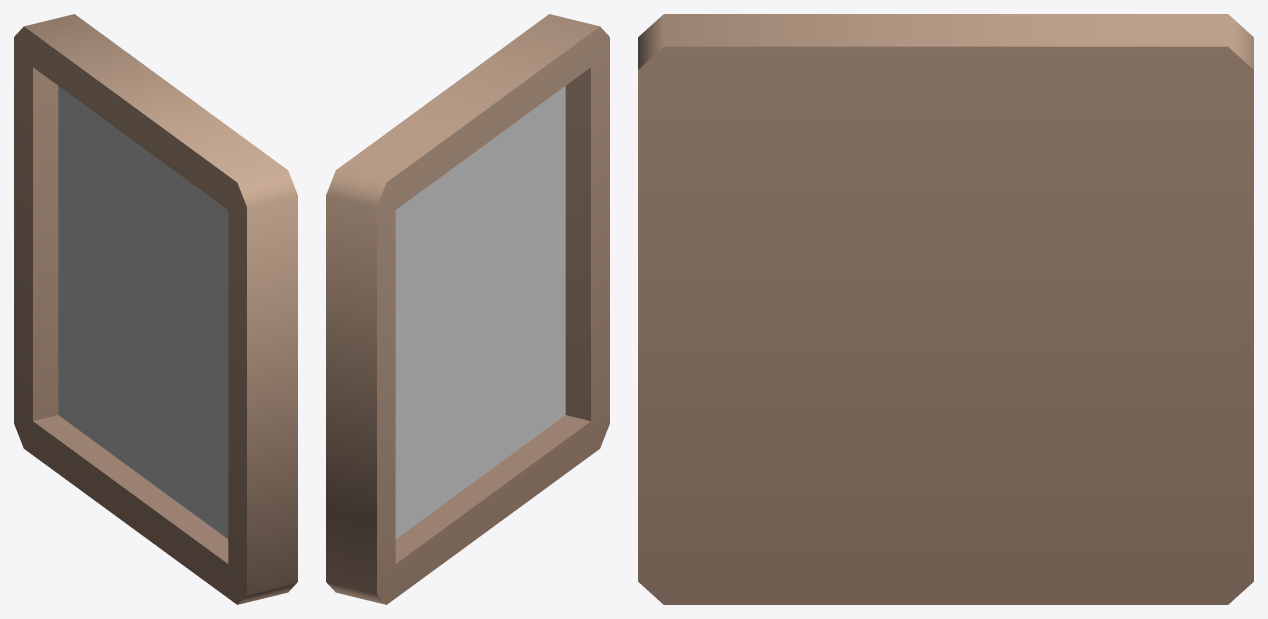
The model's file is art-frame-thin-square-small (%wall).glb.
The picture shows the model from 3 angles, left to right: view 1: azimuth 30°, elevation 25°; view 2: azimuth 150°, elevation 25°; view 3: azimuth 270°, elevation 25°; orthographic projection. The views are drawn at different scales.
Visible parts, largest first — view 1: art-frame-thin-square-small (%wall); view 2: art-frame-thin-square-small (%wall); view 3: art-frame-thin-square-small (%wall).
Part boxes in pixels (x1,y1,x2,y2): art-frame-thin-square-small (%wall): (14, 14, 297, 604); art-frame-thin-square-small (%wall): (326, 14, 609, 604); art-frame-thin-square-small (%wall): (638, 14, 1253, 604).
Size of the model in its own units: 0.075 by 0.5965 by 0.5965.
